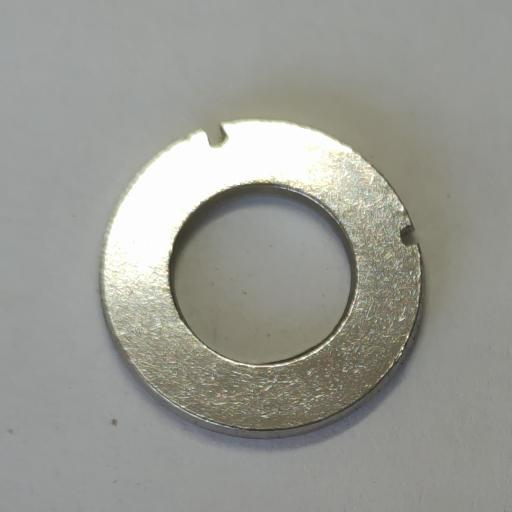burr: (199, 122, 233, 150), (397, 225, 421, 249)
